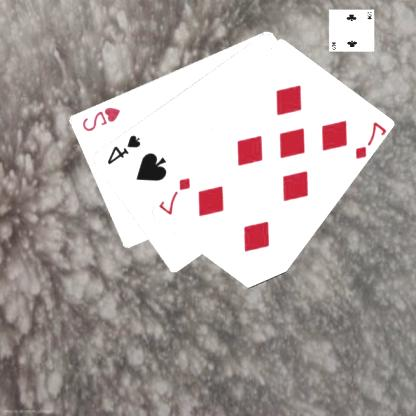2H: (81, 104, 123, 133)
4S: (106, 132, 144, 166)
7D: (159, 174, 193, 217), (354, 119, 388, 161)
